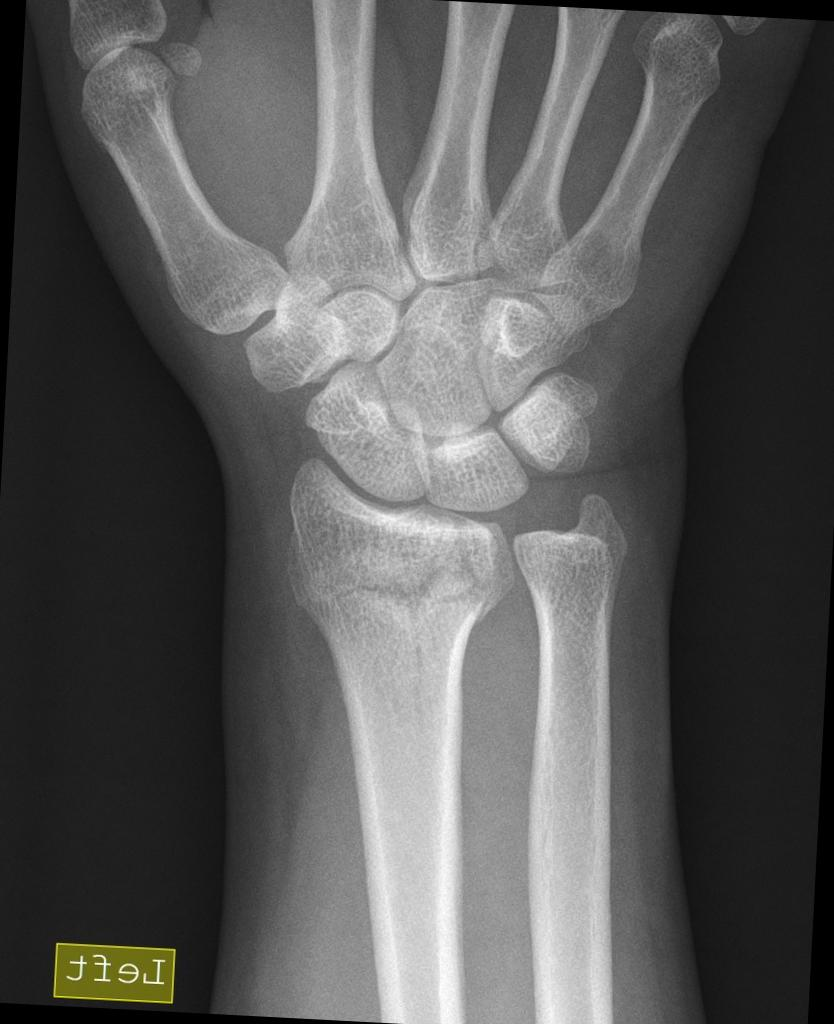line: (300, 551, 510, 634)
